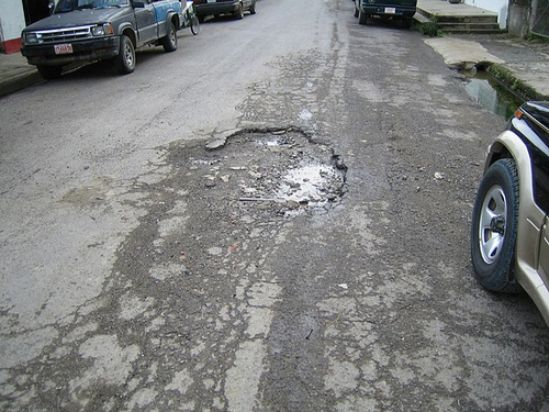pothole: (179, 125, 349, 223)
